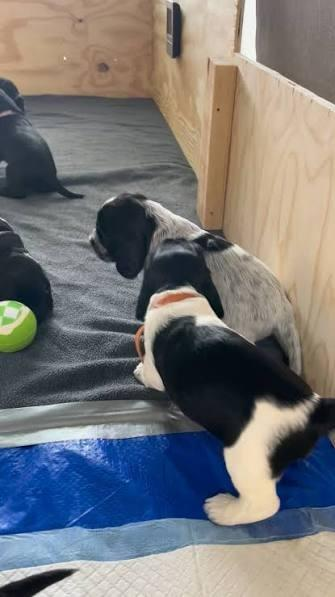puppy-dog: (134, 239, 335, 528), (89, 192, 304, 389), (0, 76, 84, 198), (0, 230, 55, 328)
